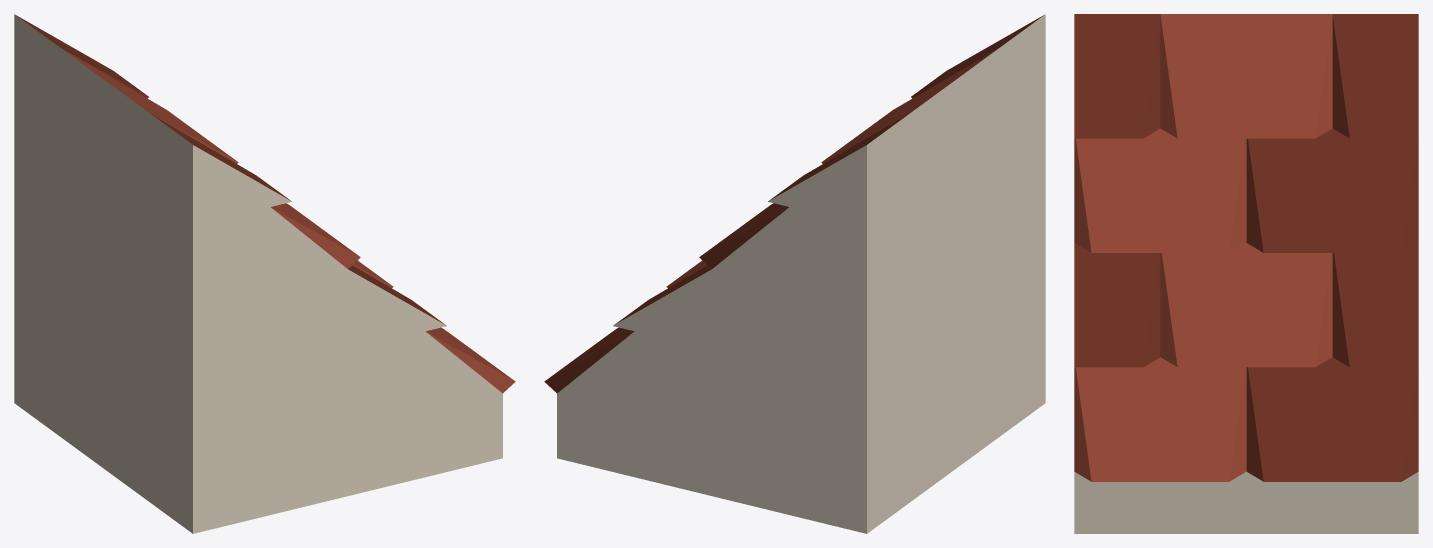
File: Roof_Straight_Side.obj
3 renders of one model, left to right at view 1: azimuth 30°, elevation 25°; view 2: azimuth 150°, elevation 25°; view 3: azimuth 270°, elevation 25°, orthographic. The views are drawn at different scales.
Parts seen in each view (by area): view 1: object1; view 2: object1; view 3: object1.
Part boxes in pixels (x1,y1,x2,y2): object1: [14, 14, 515, 533]; object1: [544, 14, 1045, 533]; object1: [1074, 14, 1418, 533].
Size of the model in its own units: 1.07 by 1.2 by 1.
